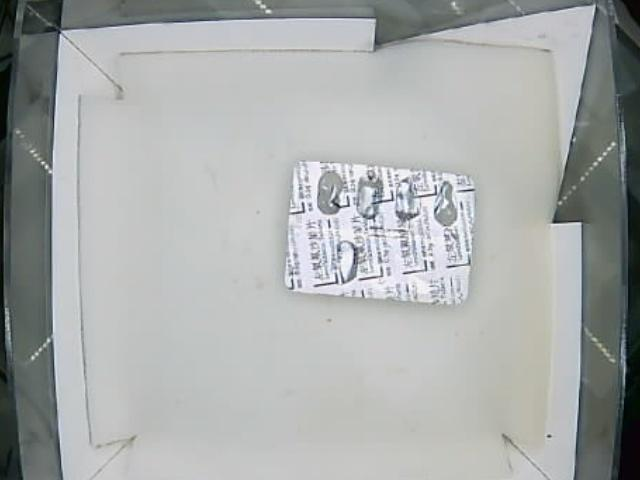Medicine: (282, 160, 475, 308)
